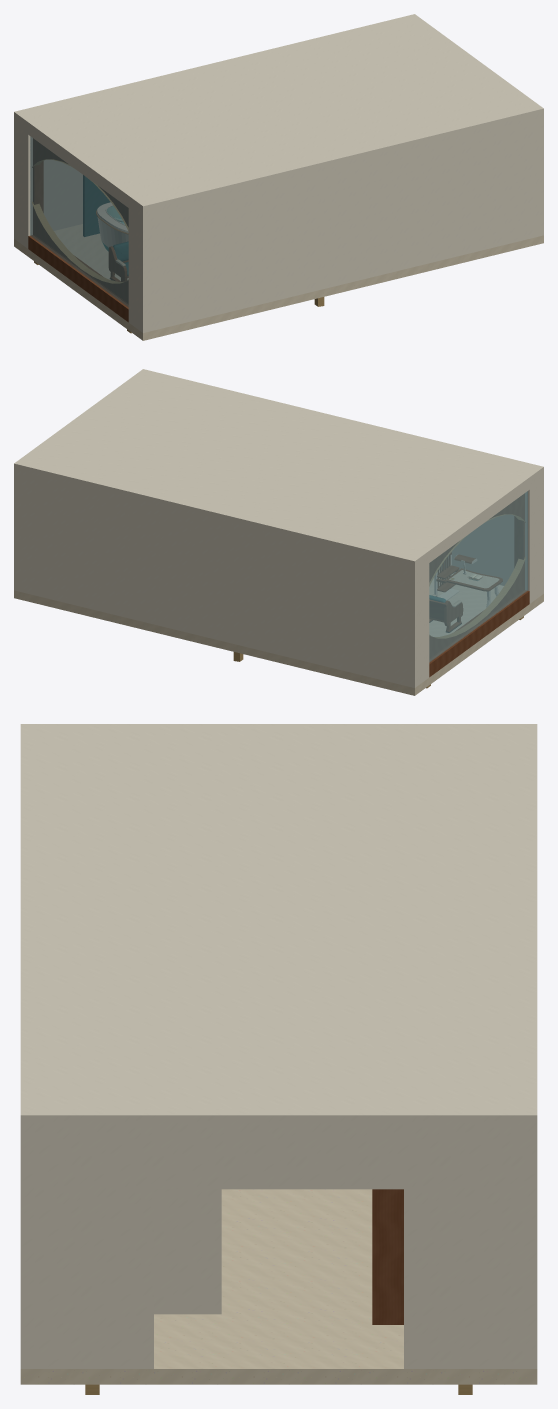
The model's file is QuietGroveBank_469_r001.glb.
The picture shows the model from 3 angles, top to bottom: view 1: azimuth 30°, elevation 25°; view 2: azimuth 150°, elevation 25°; view 3: azimuth 270°, elevation 25°; orthographic projection. The views are drawn at different scales.
Parts seen in each view (by area): view 1: QG469_Ceiling, QG469_SouthSide, QGB469_PrivateCourtGlass, QG469_RoomFloor, QG469_NorthSide, QGB469_CourtNorthPier, QGB469_CourtSouthPier, QGB469_CourtSill, QG469_OvalWindowReveal, QG469_WetPrivacyBlade, QG469_QG469_ReservedRestSupport__Hollow continuous basin she, QG469_OvalDepthReturn (+2 smaller); view 2: QG469_Ceiling, QG469_NorthSide, QGB469_PrivateCourtGlass, QG469_RoomFloor, QG469_SouthSide, QGB469_CourtSouthPier, QGB469_CourtNorthPier, QGB469_CourtSill, QG469_OvalWindowReveal, QG469_OvalDepthReturn, QGB469_CourtHeader, QGB469_DeepReveal_-310.40000000000003 (+1 smaller); view 3: QG469_Ceiling, QG469_RoomFloor, QG469_EntryShoulderNorth, QG469_EntryShoulderSouth, QG469_EntryHeader, QG469_WashEntrySide, QG469_EntryPrivacyDogleg, QG469_NorthSide, QG469_SouthSide.
Part boxes in pixels (box(x1,y1,x2,y2)): QG469_Ceiling: box(14, 14, 543, 211); QG469_SouthSide: box(141, 114, 543, 332); QGB469_PrivateCourtGlass: box(30, 136, 128, 307); QG469_RoomFloor: box(14, 224, 543, 340); QG469_NorthSide: box(14, 117, 82, 239); QGB469_CourtNorthPier: box(14, 119, 32, 248); QGB469_CourtSouthPier: box(128, 201, 150, 331); QGB469_CourtSill: box(28, 235, 128, 322); QG469_OvalWindowReveal: box(34, 139, 128, 303); QG469_WetPrivacyBlade: box(83, 175, 109, 236); QG469_QG469_ReservedRestSupport__Hollow continuous basin she: box(97, 202, 128, 250); QG469_OvalDepthReturn: box(32, 159, 128, 283); QG469_Ceiling: box(14, 369, 543, 566); QG469_NorthSide: box(14, 469, 416, 687); QGB469_PrivateCourtGlass: box(429, 491, 527, 662); QG469_RoomFloor: box(14, 570, 543, 695); QG469_SouthSide: box(439, 472, 543, 594); QGB469_CourtSouthPier: box(525, 474, 541, 603); QGB469_CourtNorthPier: box(407, 556, 429, 687); QGB469_CourtSill: box(429, 590, 529, 677); QG469_OvalWindowReveal: box(429, 494, 523, 658); QG469_OvalDepthReturn: box(429, 514, 525, 638); QGB469_CourtHeader: box(429, 483, 529, 562); QGB469_DeepReveal_-310.40000000000003: box(514, 493, 524, 589); QG469_Ceiling: box(20, 724, 537, 1125); QG469_RoomFloor: box(20, 1189, 537, 1384); QG469_EntryShoulderNorth: box(404, 1125, 528, 1368); QG469_EntryShoulderSouth: box(29, 1125, 153, 1368); QG469_EntryHeader: box(150, 1125, 407, 1189); QG469_WashEntrySide: box(154, 1189, 221, 1314); QG469_EntryPrivacyDogleg: box(372, 1189, 403, 1324); QG469_NorthSide: box(528, 1125, 537, 1368); QG469_SouthSide: box(20, 1125, 29, 1368).
Size of the model in its own units: 12.9 by 4.91 by 7.2.
Materials: 61 (43 with a texture image).
